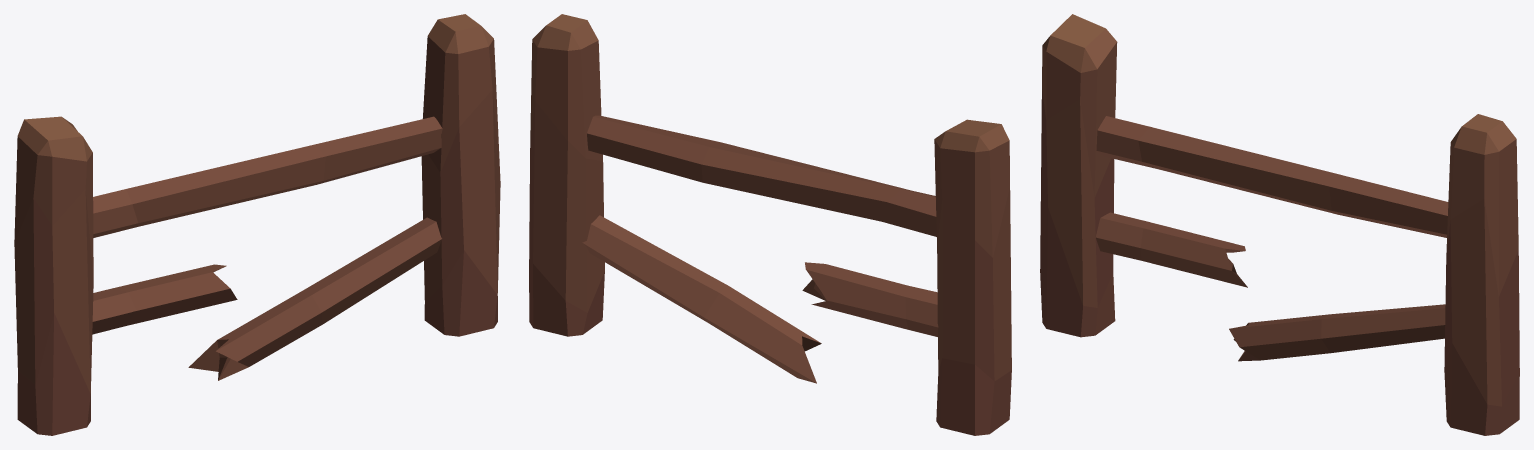
The model's file is fence_log_broken.fbx.
The picture shows the model from 3 angles, left to right: view 1: azimuth 30°, elevation 25°; view 2: azimuth 150°, elevation 25°; view 3: azimuth 330°, elevation 25°; orthographic projection.
Parts seen in each view (by area): view 1: fence_log_broken; view 2: fence_log_broken; view 3: fence_log_broken.
Part boxes in pixels (left/top/right/bottom): fence_log_broken: left=14, top=14, right=500, bottom=435; fence_log_broken: left=529, top=14, right=1011, bottom=435; fence_log_broken: left=1040, top=14, right=1519, bottom=435.
Bounding box in the file's own units: 115 × 70.55 × 14.4.
